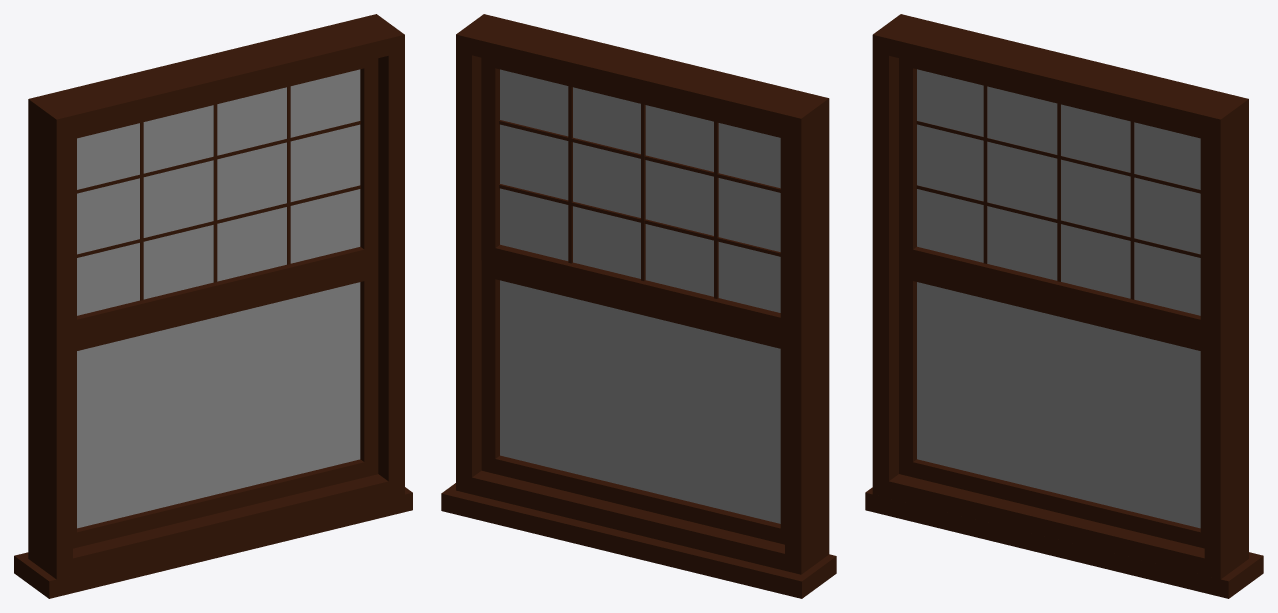
3 renders of one model, left to right at view 1: azimuth 30°, elevation 25°; view 2: azimuth 150°, elevation 25°; view 3: azimuth 330°, elevation 25°, orthographic.
Parts seen in each view (by area): view 1: Glass_001, Window_001, Frame_001; view 2: Glass_001, Window_001, Frame_001; view 3: Glass_001, Window_001, Frame_001.
Part boxes in pixels (x1,y1,x2,y2): Glass_001: (77,69,360,528); Window_001: (28,14,404,579); Frame_001: (14,487,412,598); Glass_001: (500,69,780,523); Window_001: (456,14,829,574); Frame_001: (441,483,836,598); Glass_001: (917,69,1200,528); Window_001: (872,14,1248,579); Frame_001: (865,487,1263,598).
Bounding box in the file's own units: 1.59 × 2 × 0.2661.
